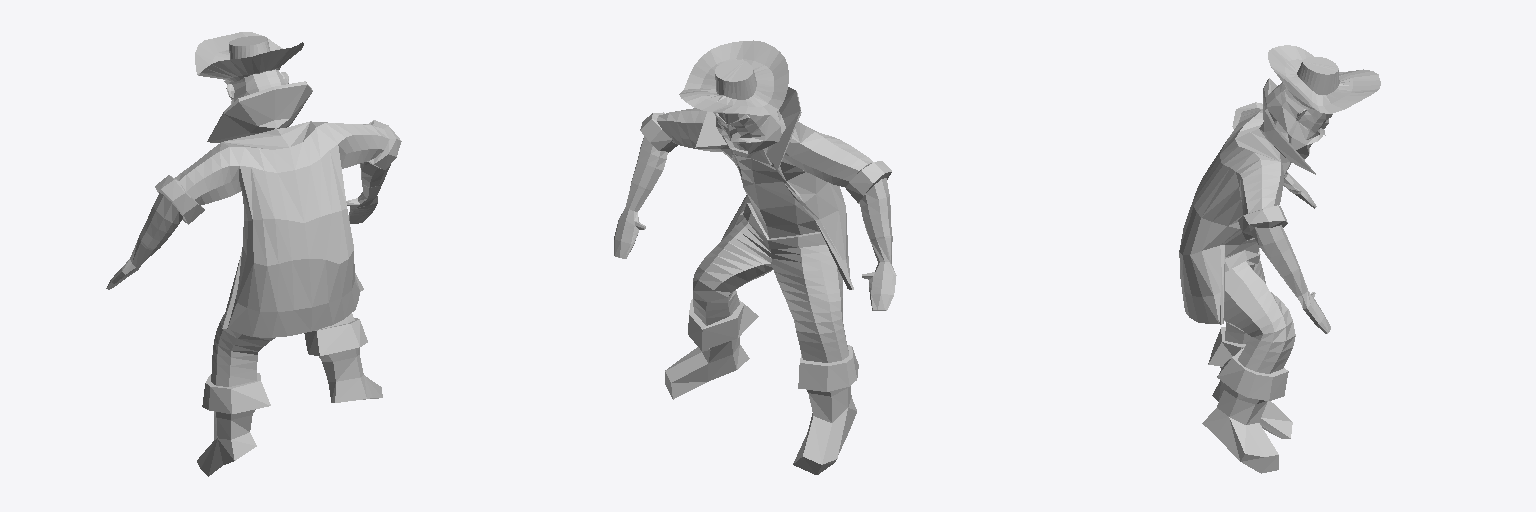
File: pirata_000164.obj
3 renders of one model, left to right at view 1: azimuth 30°, elevation 25°; view 2: azimuth 150°, elevation 25°; view 3: azimuth 270°, elevation 25°, orthographic.
Parts seen in each view (by area): view 1: Pirata_PirataH; view 2: Pirata_PirataH; view 3: Pirata_PirataH.
Boxes of the visible parts, x1,y1,x2,y2 form: Pirata_PirataH: [106, 32, 401, 476]; Pirata_PirataH: [614, 40, 896, 474]; Pirata_PirataH: [1179, 45, 1380, 473].
Size of the model in its own units: 6.74 by 9.84 by 4.35.